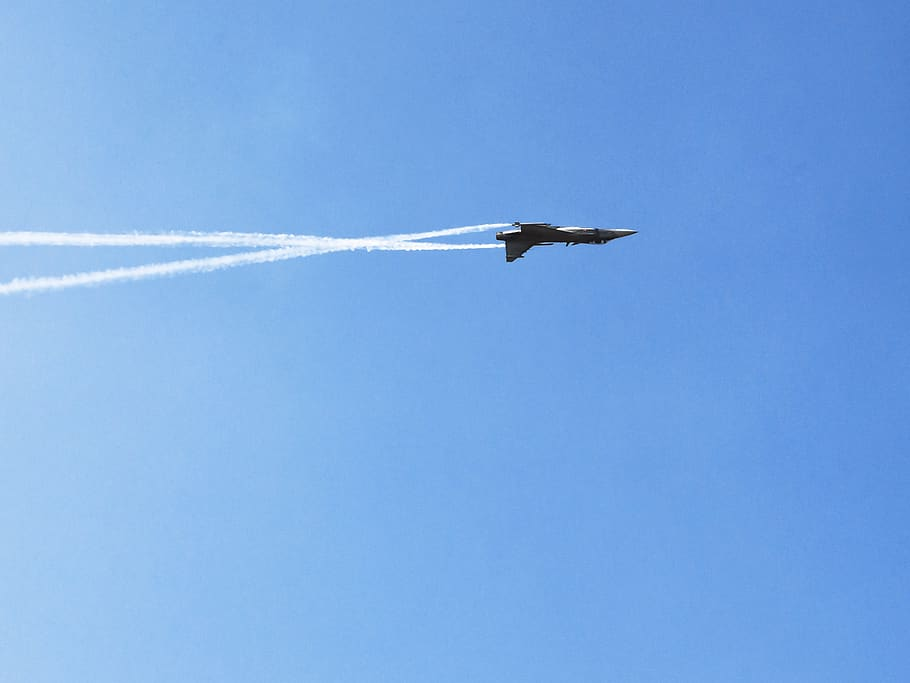plane: (492, 219, 639, 265)
